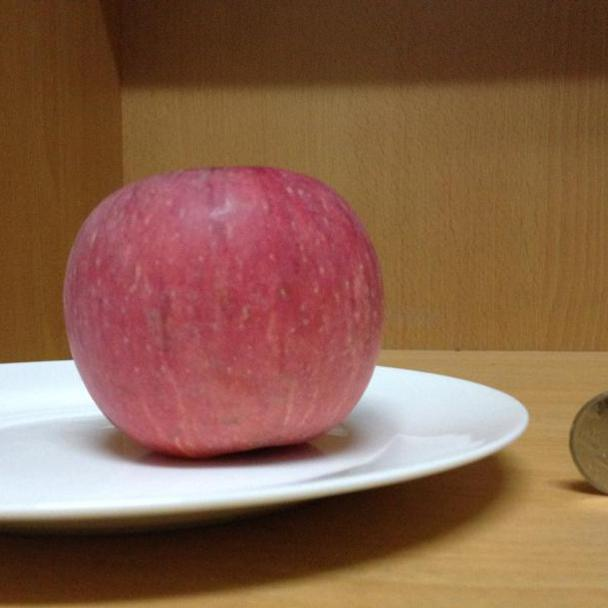apple: (63, 166, 385, 459)
